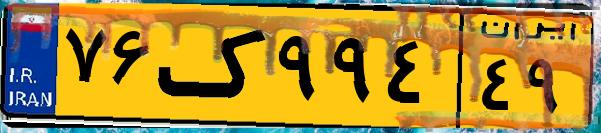4: (385, 28, 445, 110), (475, 38, 525, 113)
6: (110, 28, 158, 98)
7: (57, 26, 110, 100)
9: (270, 28, 330, 110), (330, 28, 385, 110), (525, 38, 570, 115)
ک: (158, 12, 270, 120)
